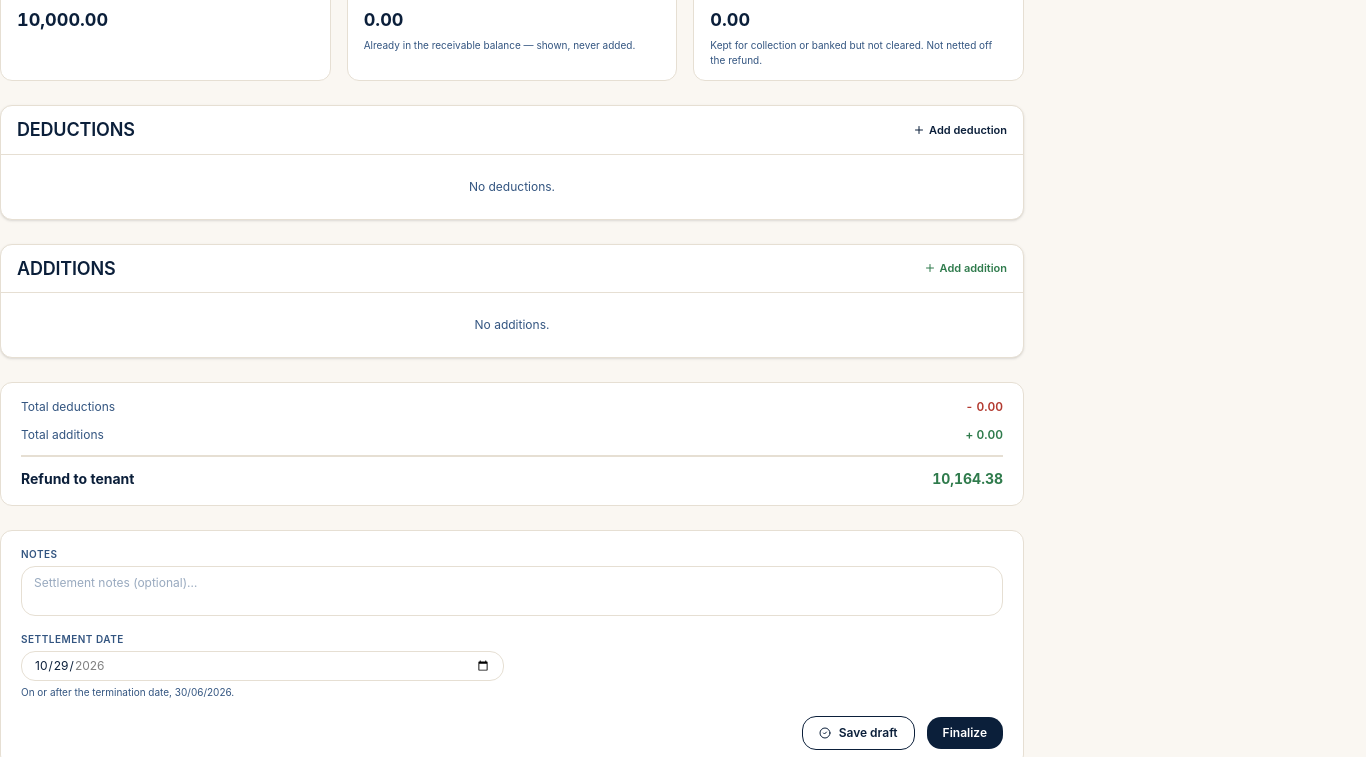
Test: Settlement statement › reports the STL and does not promise closure while cheques remain
(page scrolled)
Click the button with test id "settlement-finalize".
click(965, 733)  # box [927,717,1003,749]
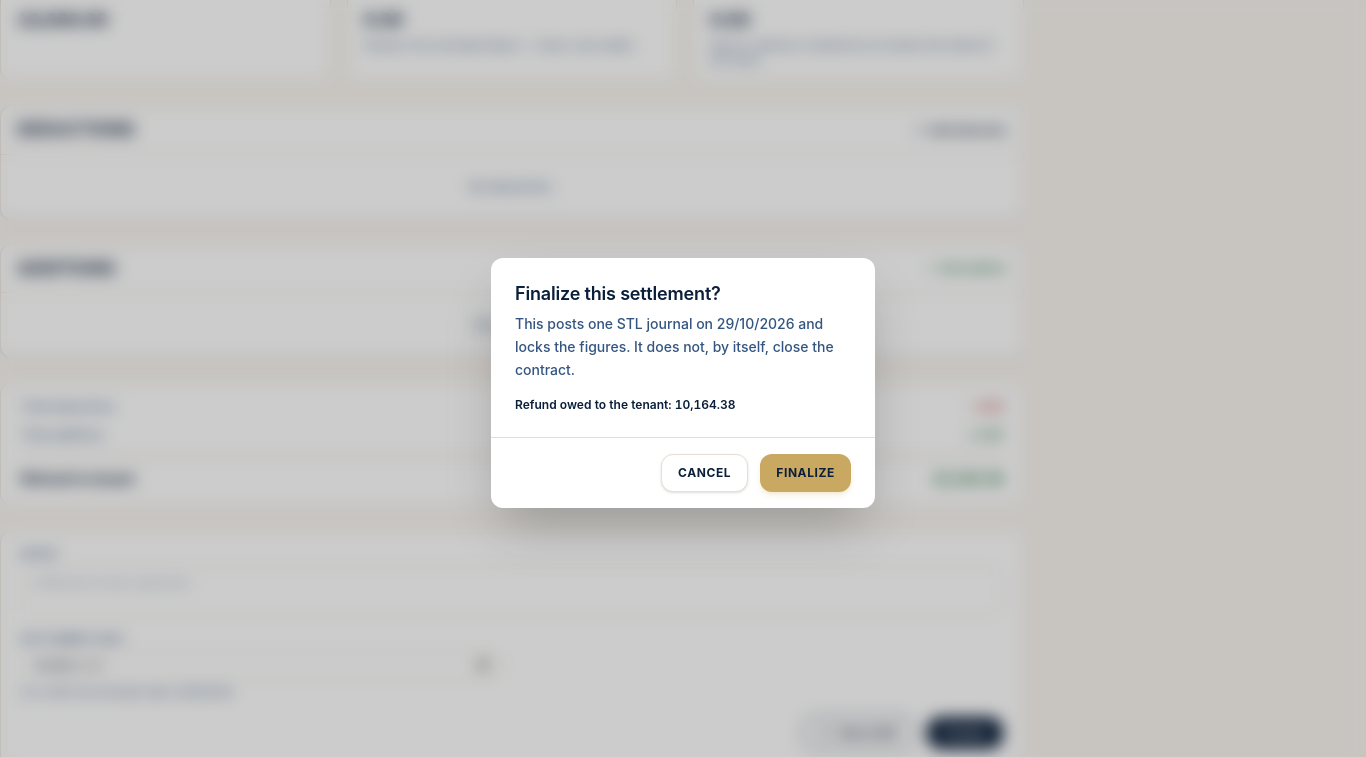
Click the button with test id "settlement-finalize-confirm".
click(806, 473)  # box [760,454,851,492]
(page scrolled)
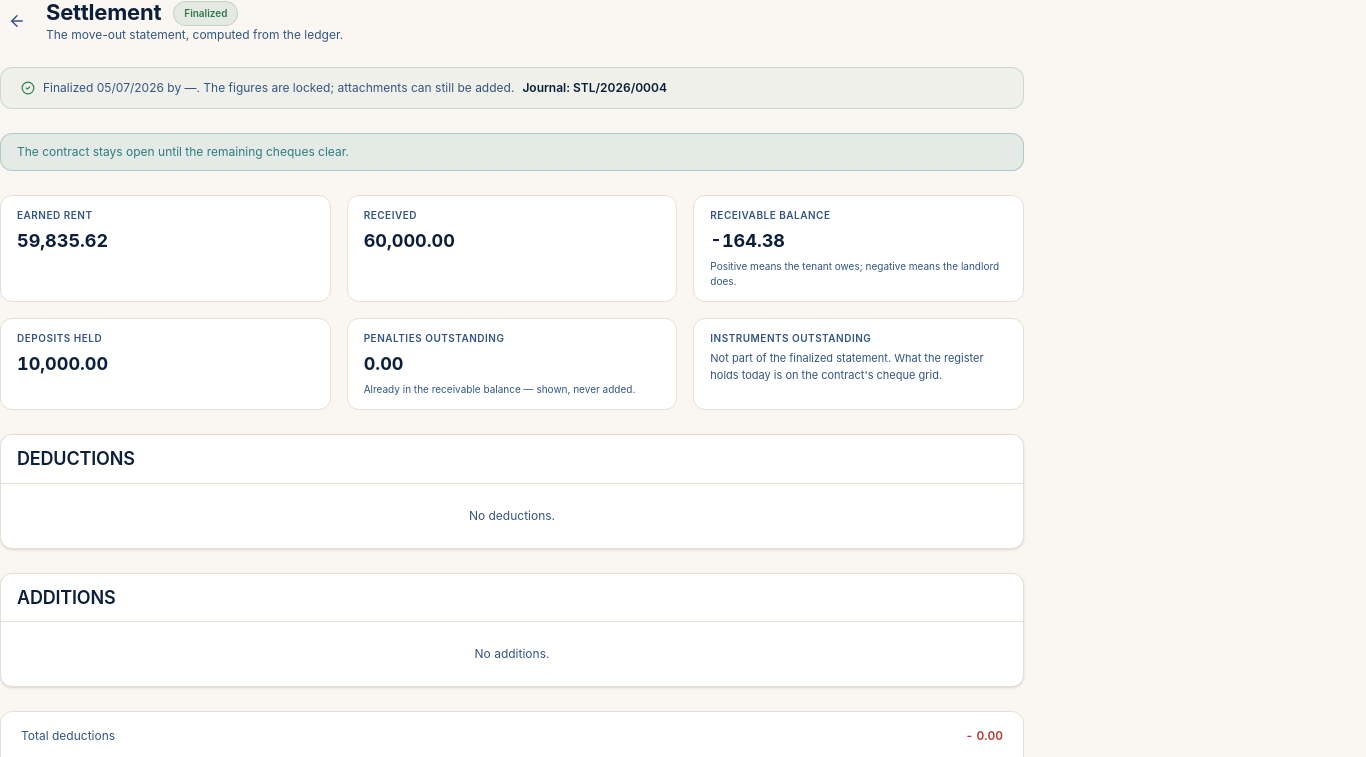
Expected: the text with test id "settlement-journal" shows "STL/2026/0004", [573,80,667,95]
Expected: the text with test id "settlement-closure" reads "The contract stays open until the remaining cheques clear.", [17,144,349,159]
